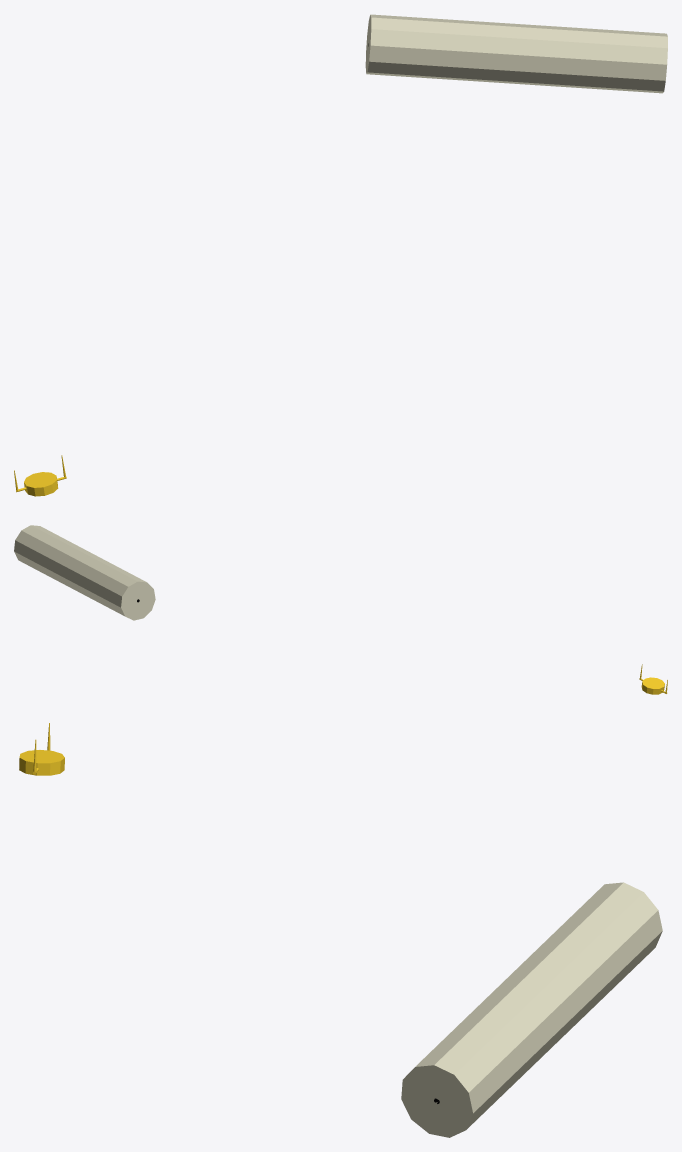
Rendered from tile_93.glb.
The picture shows the model from 3 angles, top to bottom: view 1: azimuth 30°, elevation 25°; view 2: azimuth 150°, elevation 25°; view 3: azimuth 270°, elevation 25°; orthographic projection. The views are drawn at different scales.
Bounding box in the file's own units: 3.84 × 0.8378 × 1.95.
